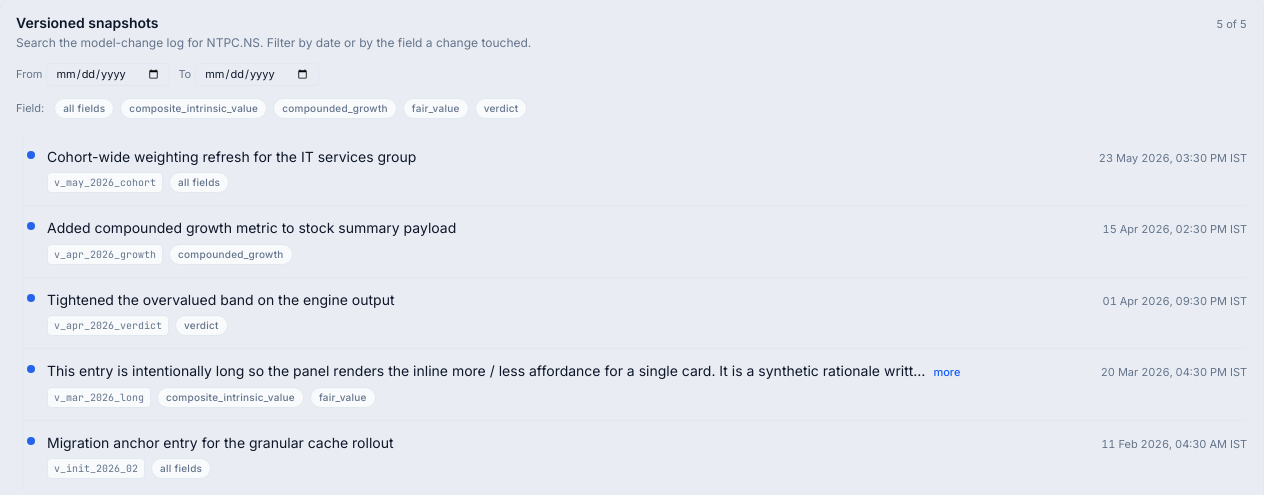
Test: VersionedSnapshotsPanel › filters by field chip and toggles active state
Expected: the text "Cohort-wide weighting refresh for the IT services group" is shown, [47,146,416,166]
Click the "verdict" field chip in the filter row.
Step 1. Click the button "verdict" → (501, 108), box [475,98,527,118]
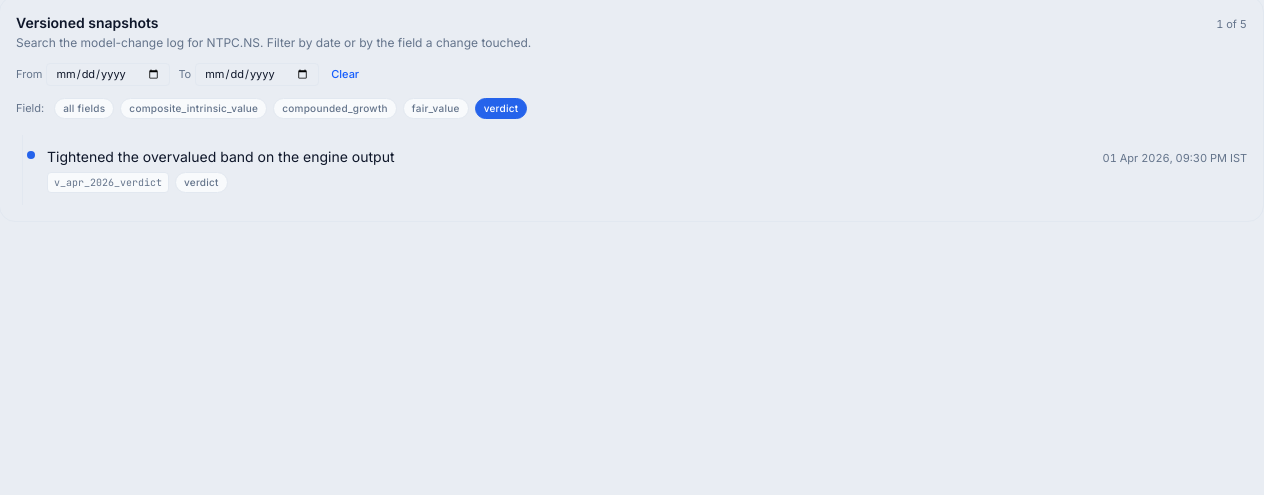
Expected: the text "Tightened the overvalued band on the engine output" is shown, [47,146,394,166]
Now the text "Cohort-wide weighting refresh" is gone
Now the text "1 of 5" is shown, box [1216,16,1247,32]
Clicking the same chip again clears the filter.
Step 2. Click the button "verdict" → (501, 108), box [475,98,527,118]
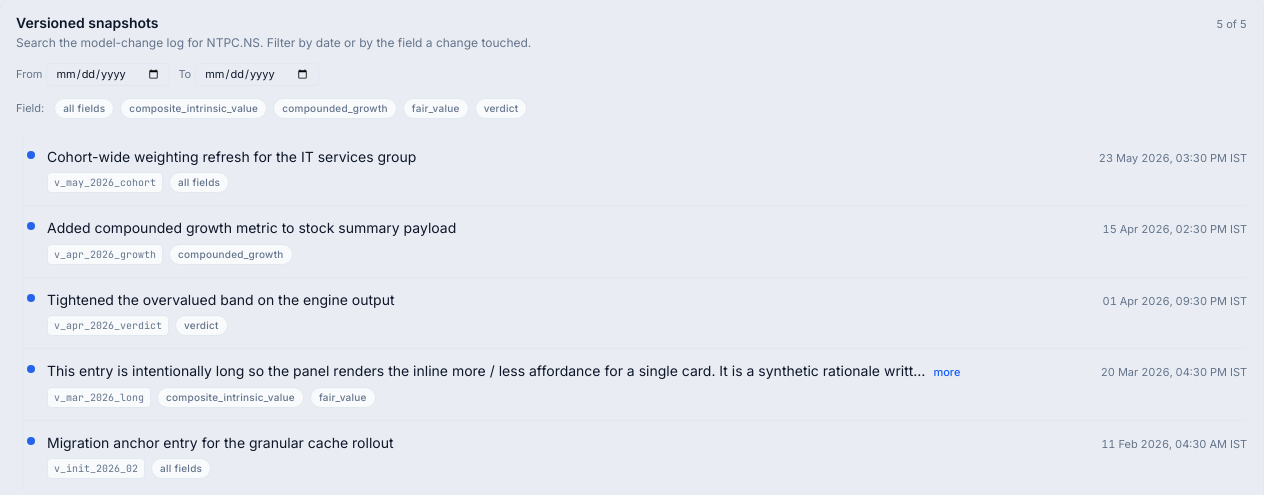
Now the text "Cohort-wide weighting refresh for the IT services group" is shown, box [47,146,416,166]
Now the text "5 of 5" is shown, box [1216,16,1247,32]
